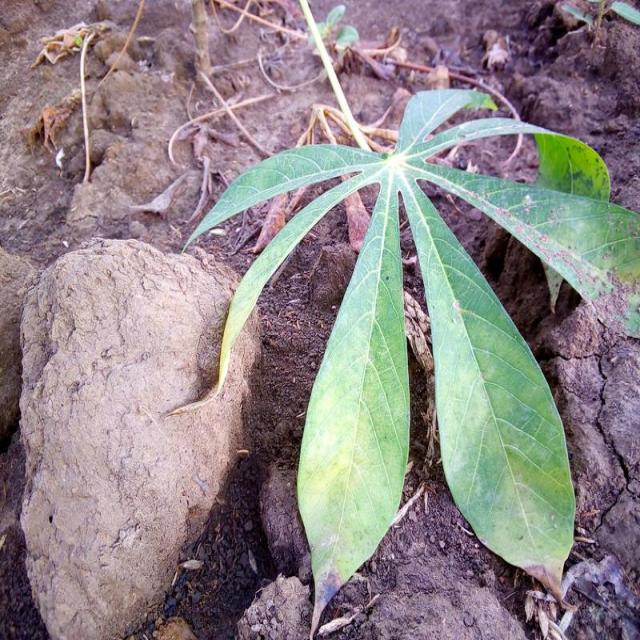cassava leaf: (166, 84, 639, 637), (399, 164, 578, 603), (296, 162, 412, 638)
